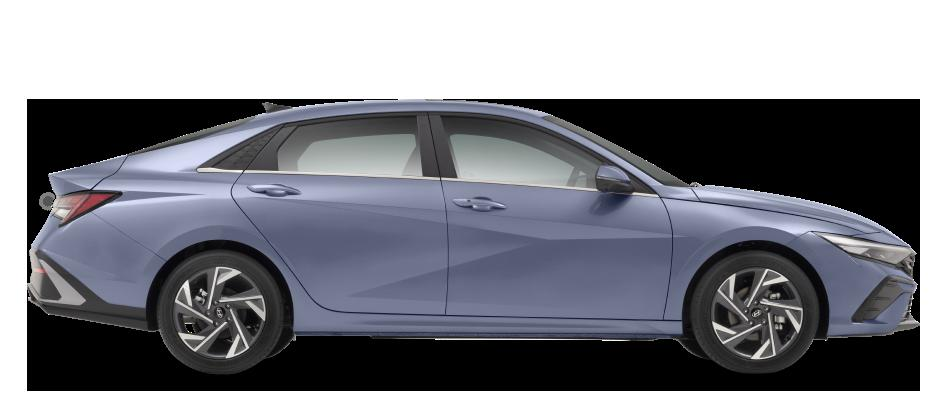car: (28, 99, 920, 389)
